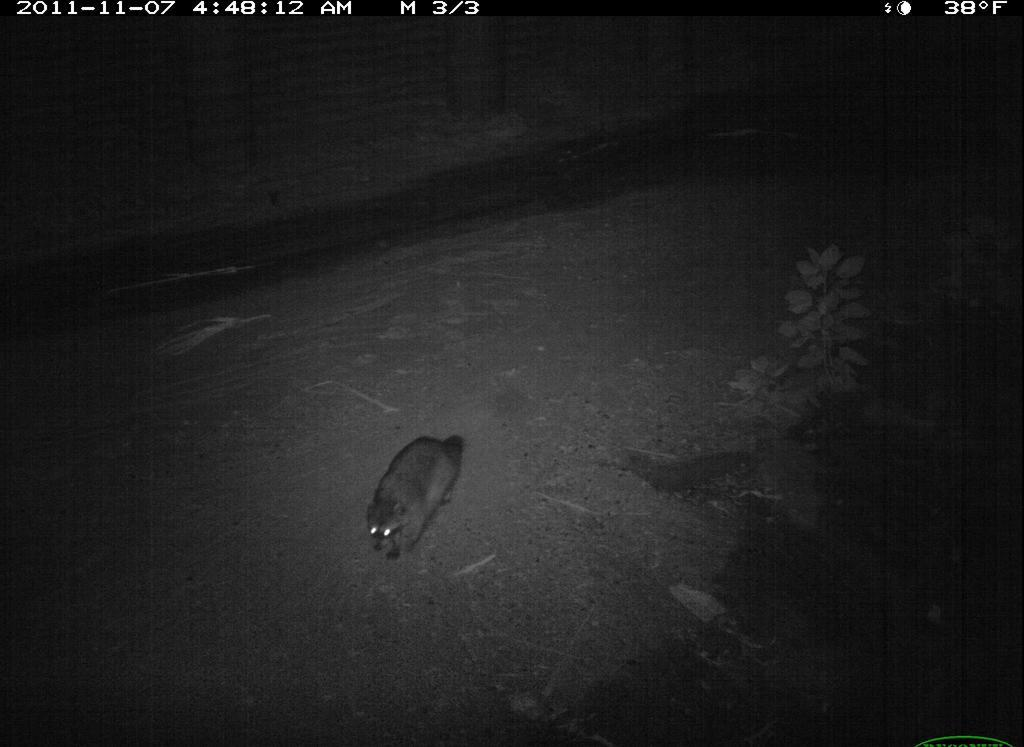raccoon: (344, 424, 478, 578)
